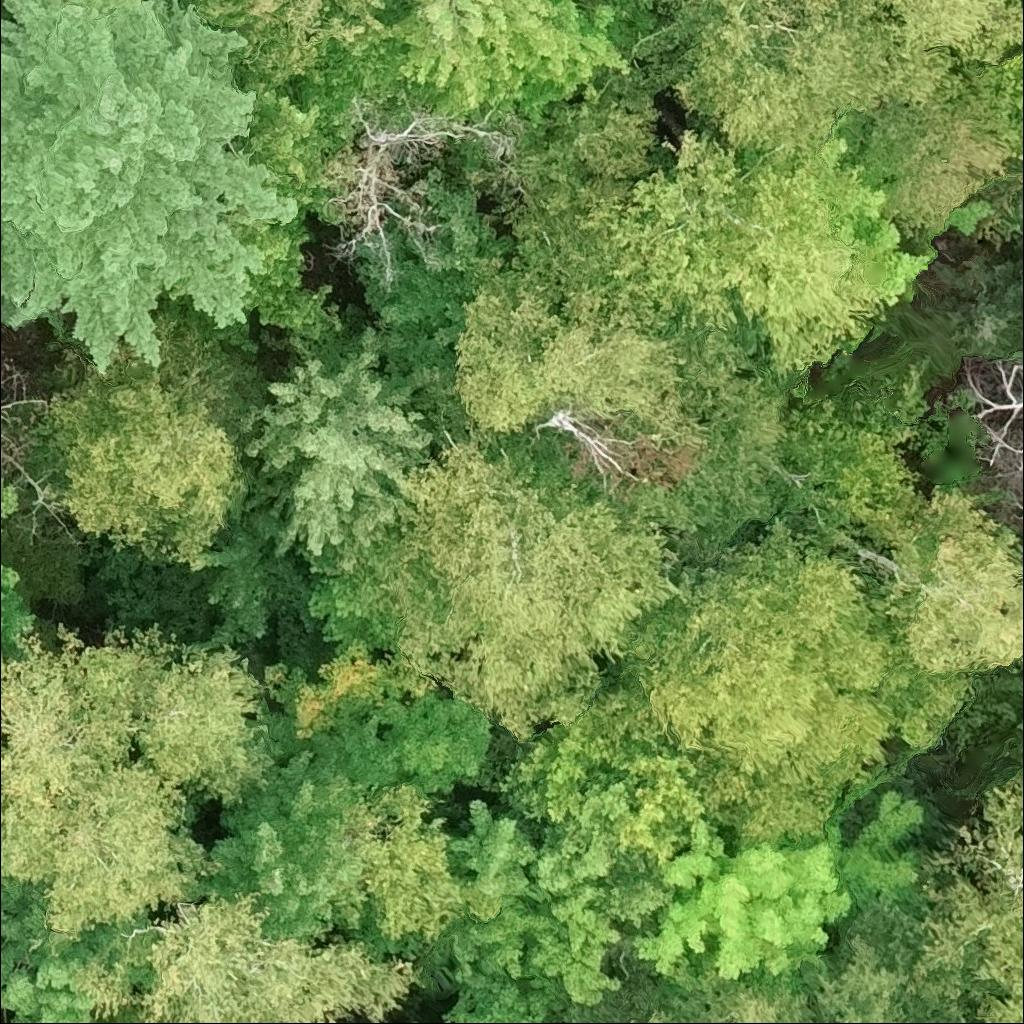crown: (0, 0, 308, 375), (375, 428, 681, 739), (0, 617, 289, 938), (620, 516, 903, 842), (558, 126, 869, 383), (458, 666, 707, 949), (205, 306, 447, 573), (625, 785, 926, 985), (37, 312, 260, 568), (450, 254, 710, 443), (651, 0, 914, 170), (439, 794, 625, 1023), (617, 325, 790, 571), (875, 483, 1023, 755), (138, 888, 425, 1023), (501, 69, 674, 287), (837, 65, 1023, 256), (382, 0, 635, 130), (204, 746, 370, 938), (363, 170, 514, 377), (328, 776, 499, 957), (627, 920, 922, 1023), (914, 773, 1023, 1023), (767, 397, 928, 553), (254, 635, 454, 758), (815, 120, 937, 320), (179, 521, 335, 670), (194, 0, 397, 102), (0, 883, 119, 1023), (873, 0, 1023, 105), (232, 82, 344, 211), (228, 211, 334, 336), (371, 689, 490, 793), (305, 550, 390, 657), (297, 709, 405, 791), (944, 250, 1023, 358), (0, 473, 37, 654), (964, 358, 1023, 471), (970, 44, 1023, 120), (797, 0, 853, 16), (0, 940, 15, 986), (1007, 483, 1023, 523), (107, 1009, 143, 1023), (1021, 195, 1023, 222), (0, 1009, 1, 1023)
